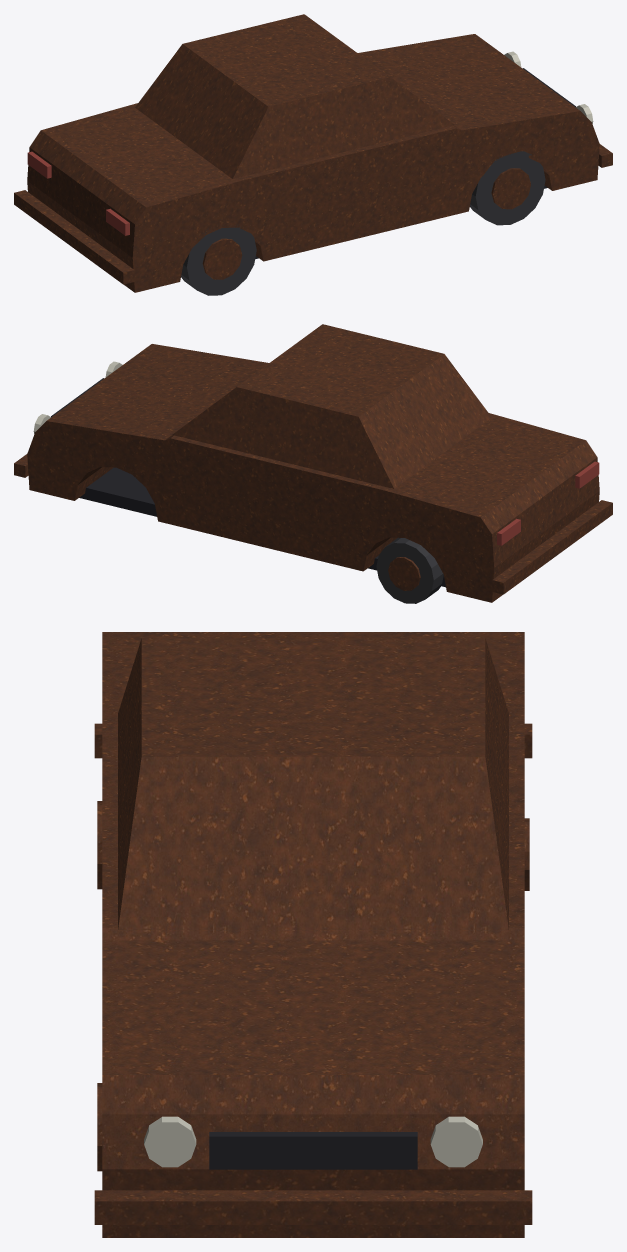
The model's file is car_sedan_burnt.glb.
The picture shows the model from 3 angles, top to bottom: view 1: azimuth 30°, elevation 25°; view 2: azimuth 150°, elevation 25°; view 3: azimuth 270°, elevation 25°; orthographic projection. The views are drawn at different scales.
Visible parts, largest first — view 1: car_sedan_burnt; view 2: car_sedan_burnt; view 3: car_sedan_burnt.
Part boxes in pixels (x1=…): car_sedan_burnt: x1=14, y1=14, x2=612, y2=295; car_sedan_burnt: x1=14, y1=324, x2=612, y2=603; car_sedan_burnt: x1=94, y1=632, x2=532, y2=1237.
Bounding box in the file's own units: 4.34 × 1.42 × 1.68.
Materials: 5 (1 with a texture image).
